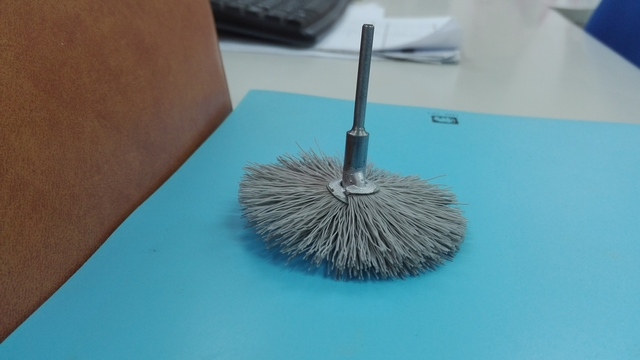TOOL: (197, 4, 527, 307)
